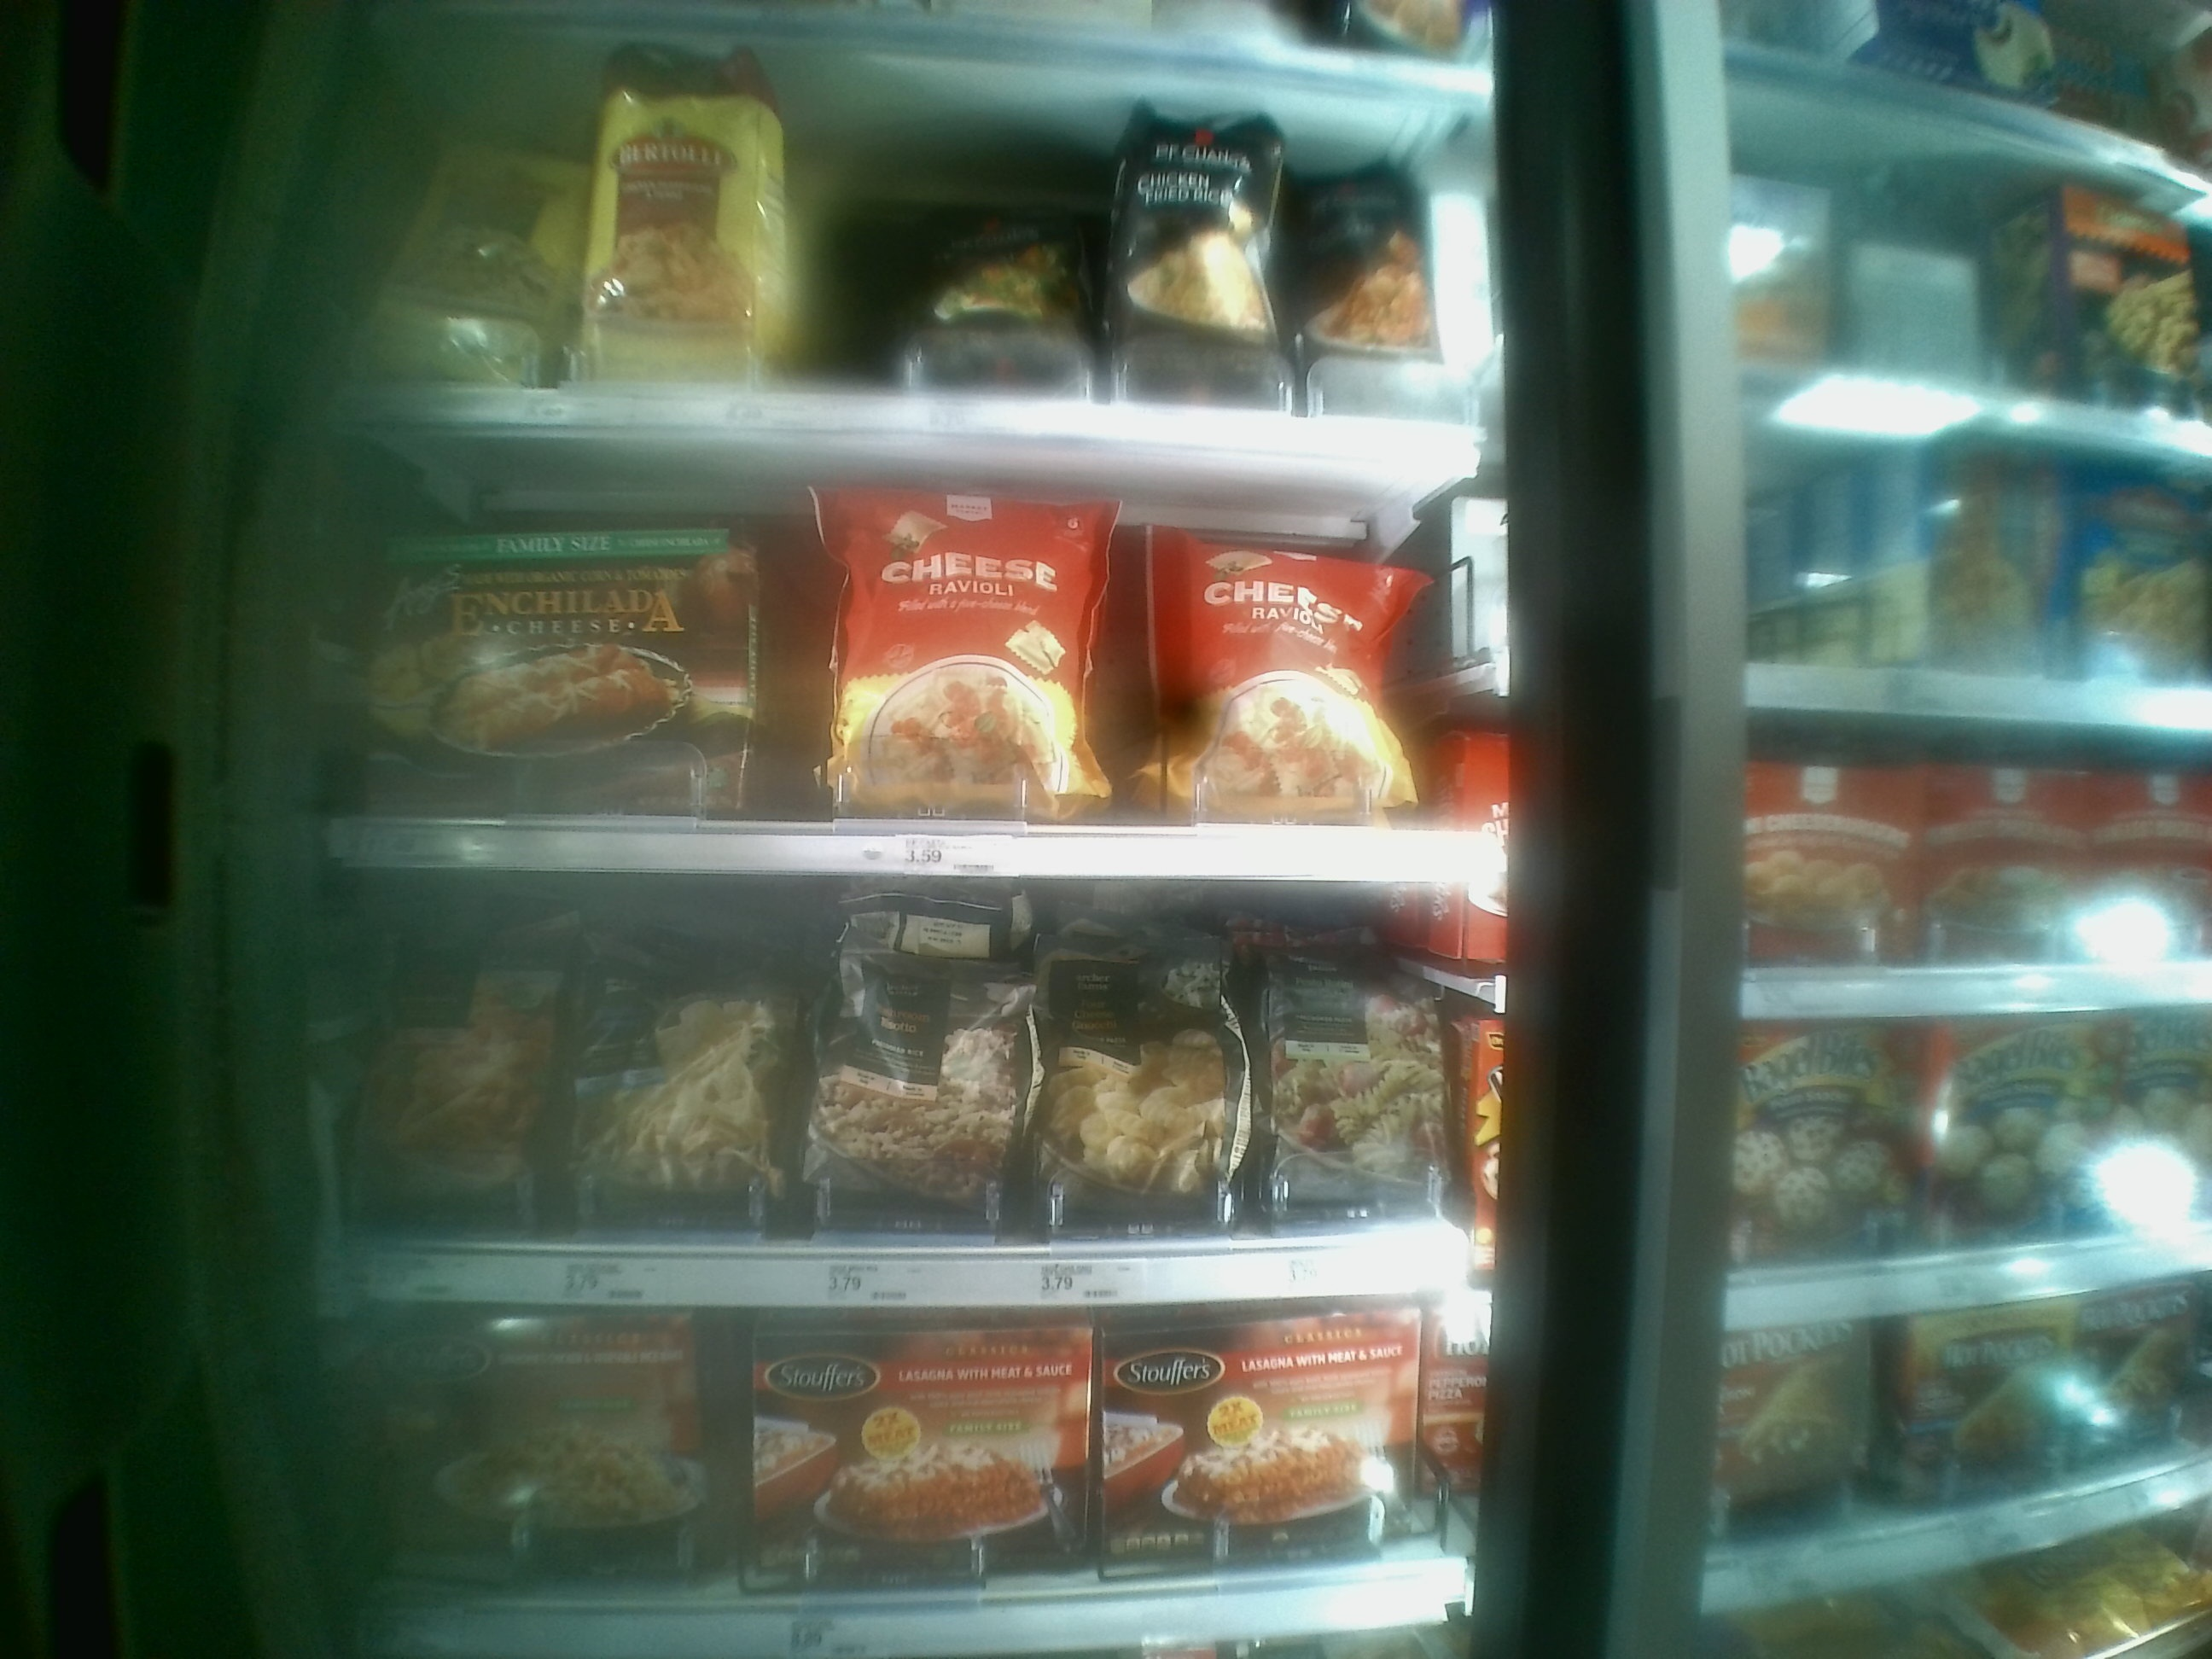frozen-food-shelf: (305, 477, 1489, 878), (317, 880, 1444, 1295), (343, 1312, 1449, 1645)
